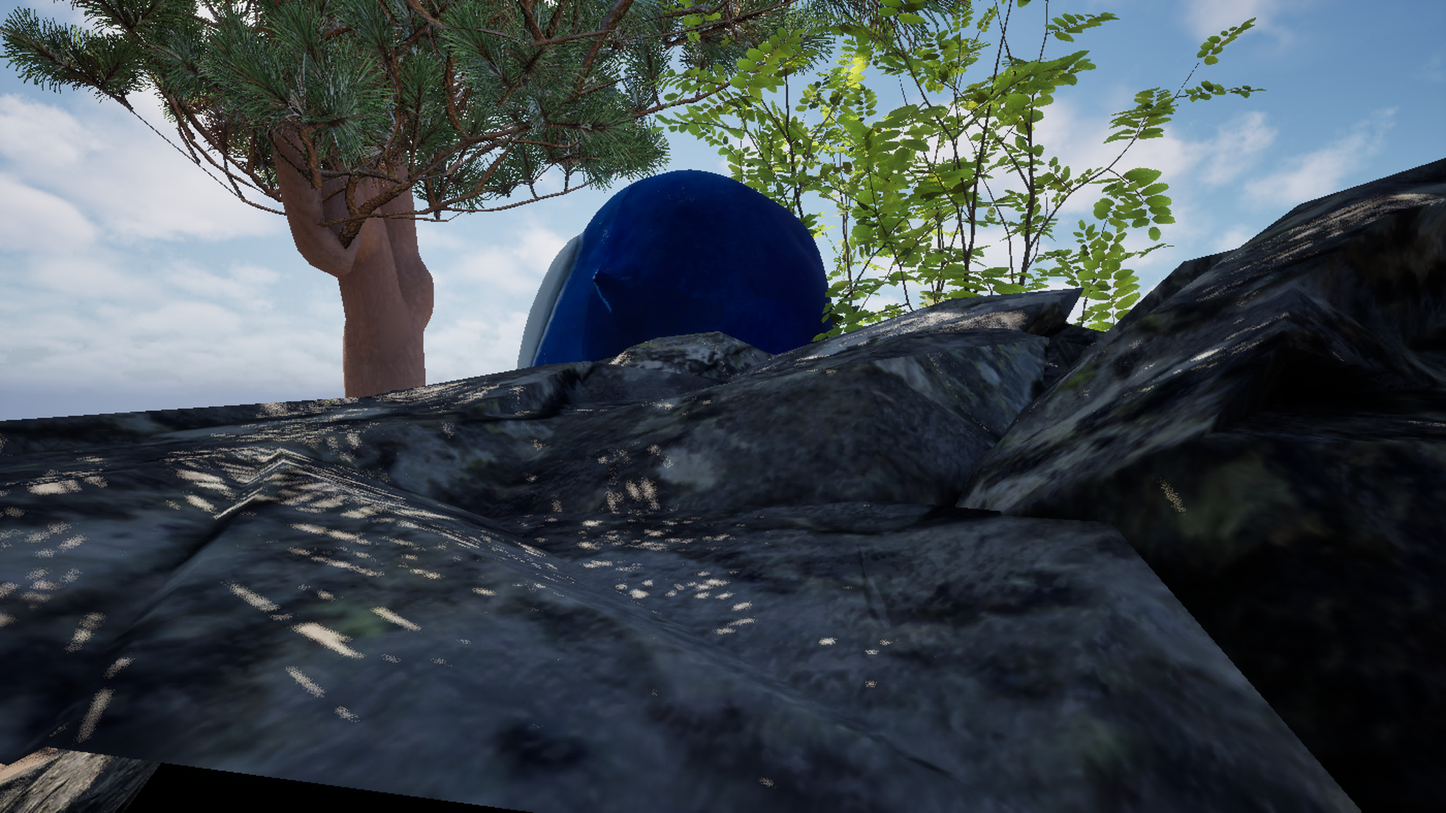Piplup: (333, 0, 1272, 813)
